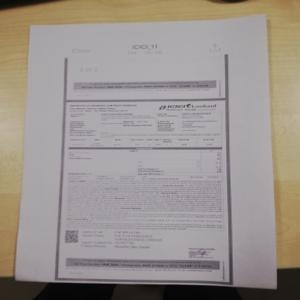image: (157, 101, 219, 114)
table: (67, 147, 224, 178), (69, 132, 222, 147)
text: (68, 179, 223, 214), (69, 102, 151, 132)
